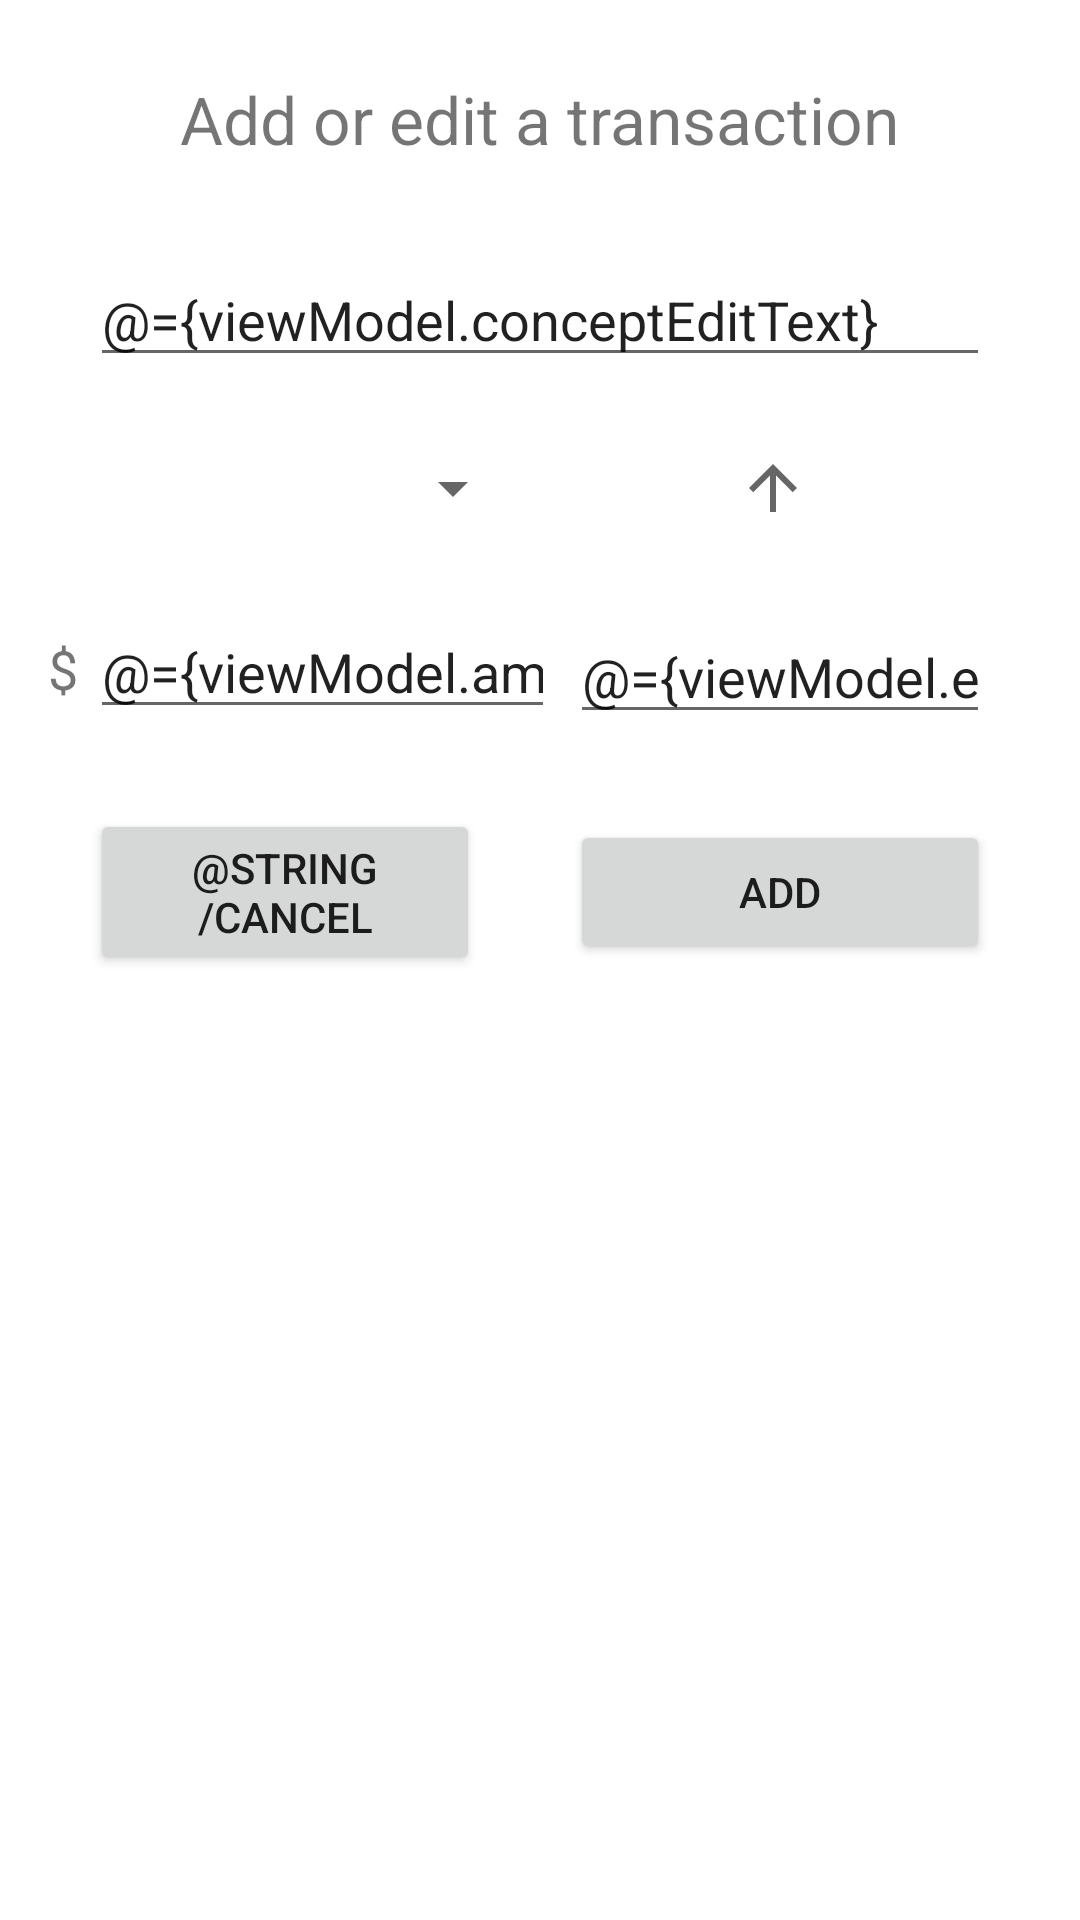

Icons on this 1080px x 1920px Android screen, each with its box as (x1, y1, x2, y2):
arrow upward: (749, 464, 797, 512)
